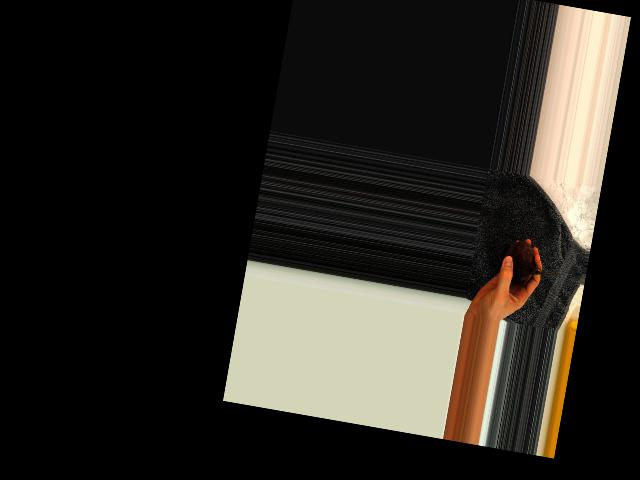beet: (497, 237, 564, 288)
